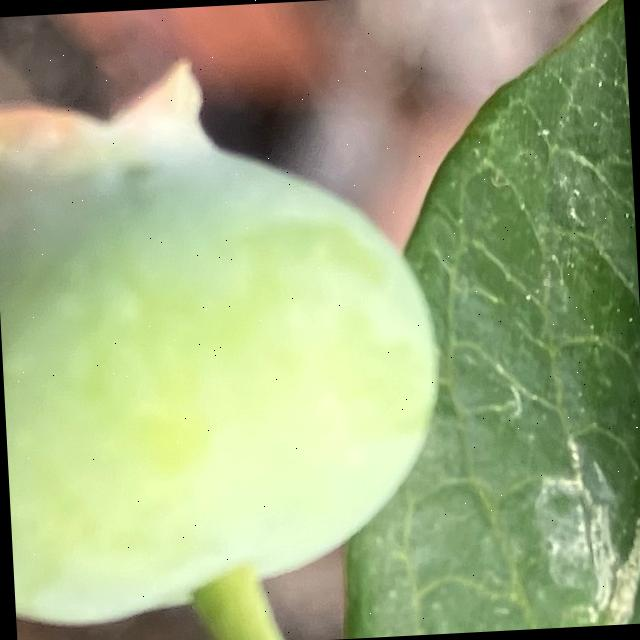Blueberries: (0, 37, 463, 640)
